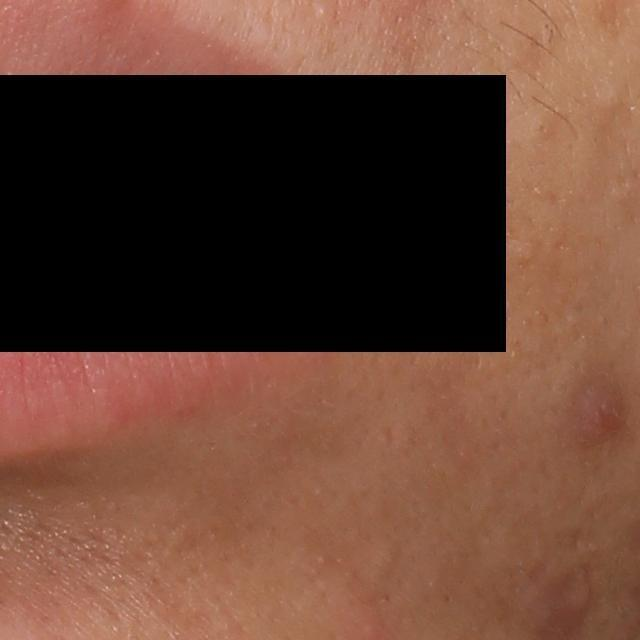papule: (571, 377, 624, 450)
